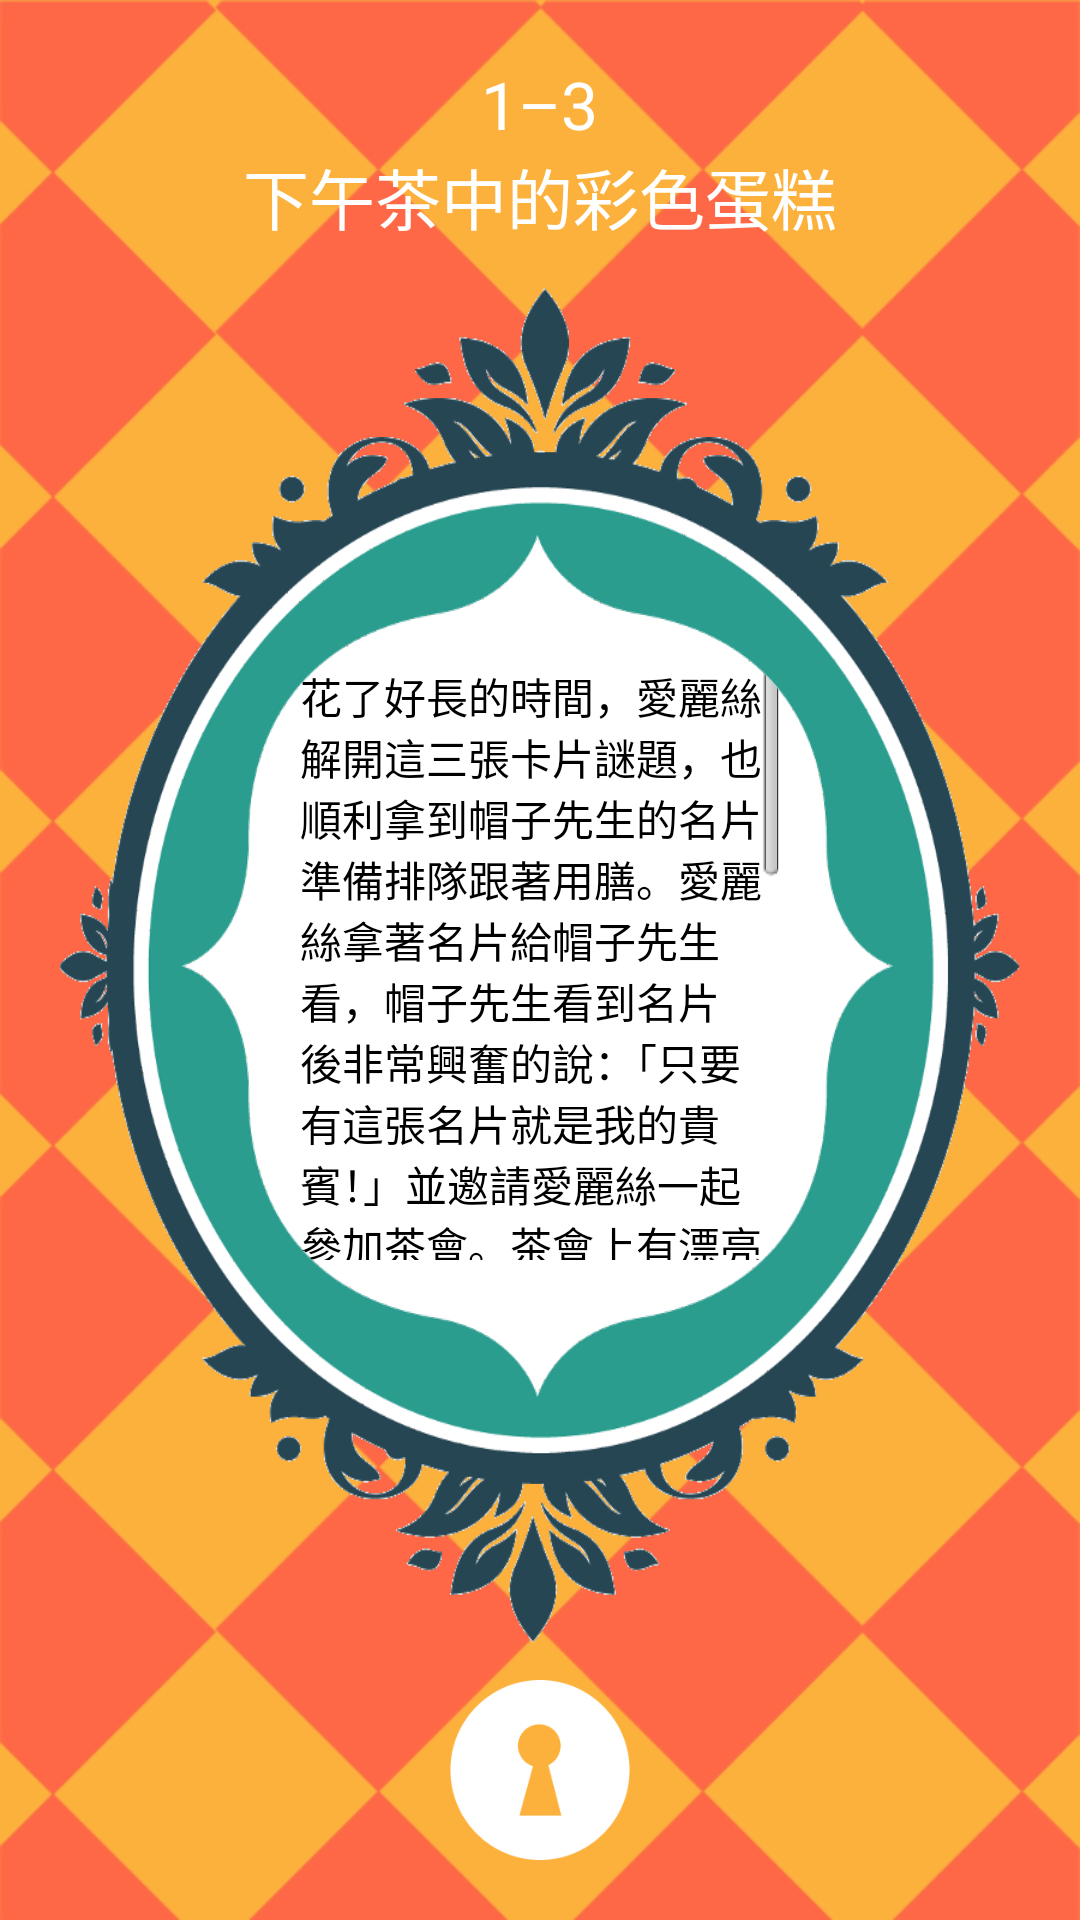

Point at icon controls on the screen. Image size 1080x1920, points as (x,y).
lock: (540,1770)
